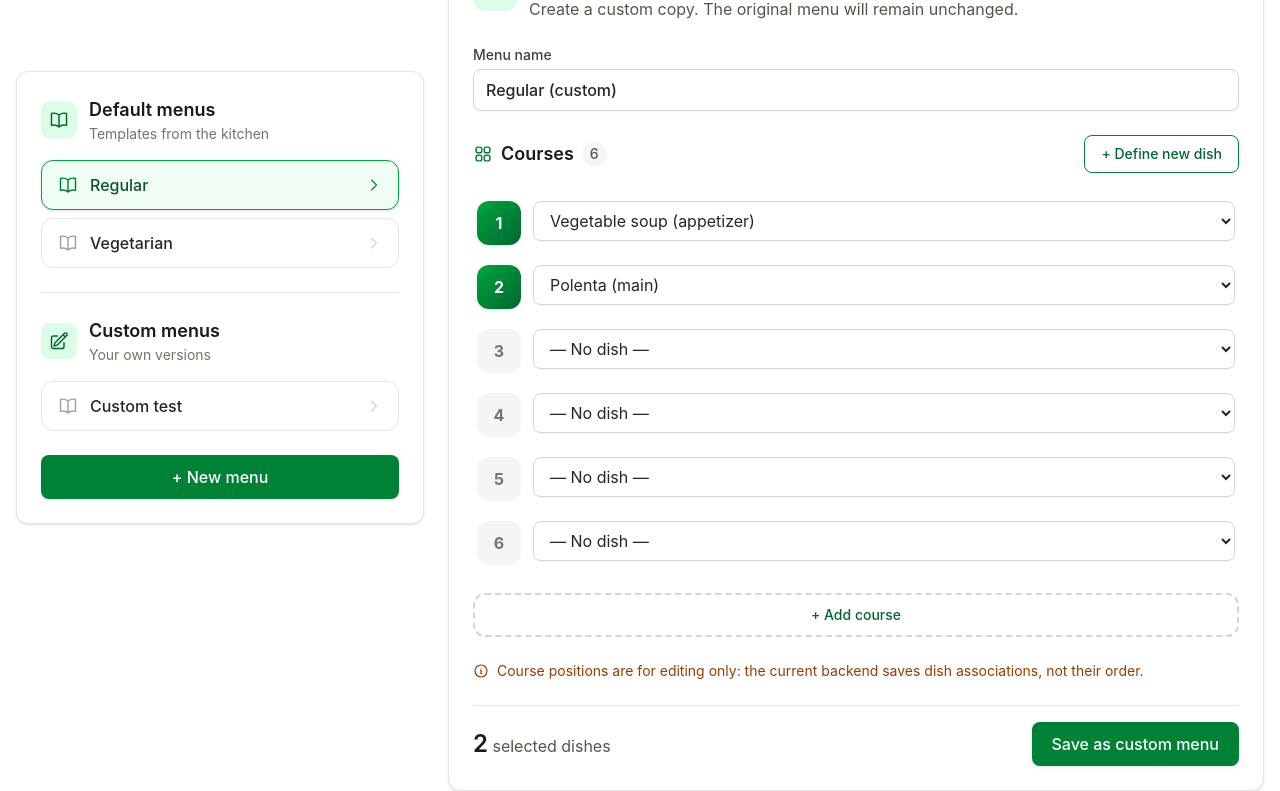
Test case: MH-162 Manage Menus page › shows a backend rejection instead of showing success
The width and height of the screenshot is (1280, 791).
(page scrolled)
Click the button "Save as custom menu": (1135, 744) [1032, 722, 1239, 766]
(page scrolled)
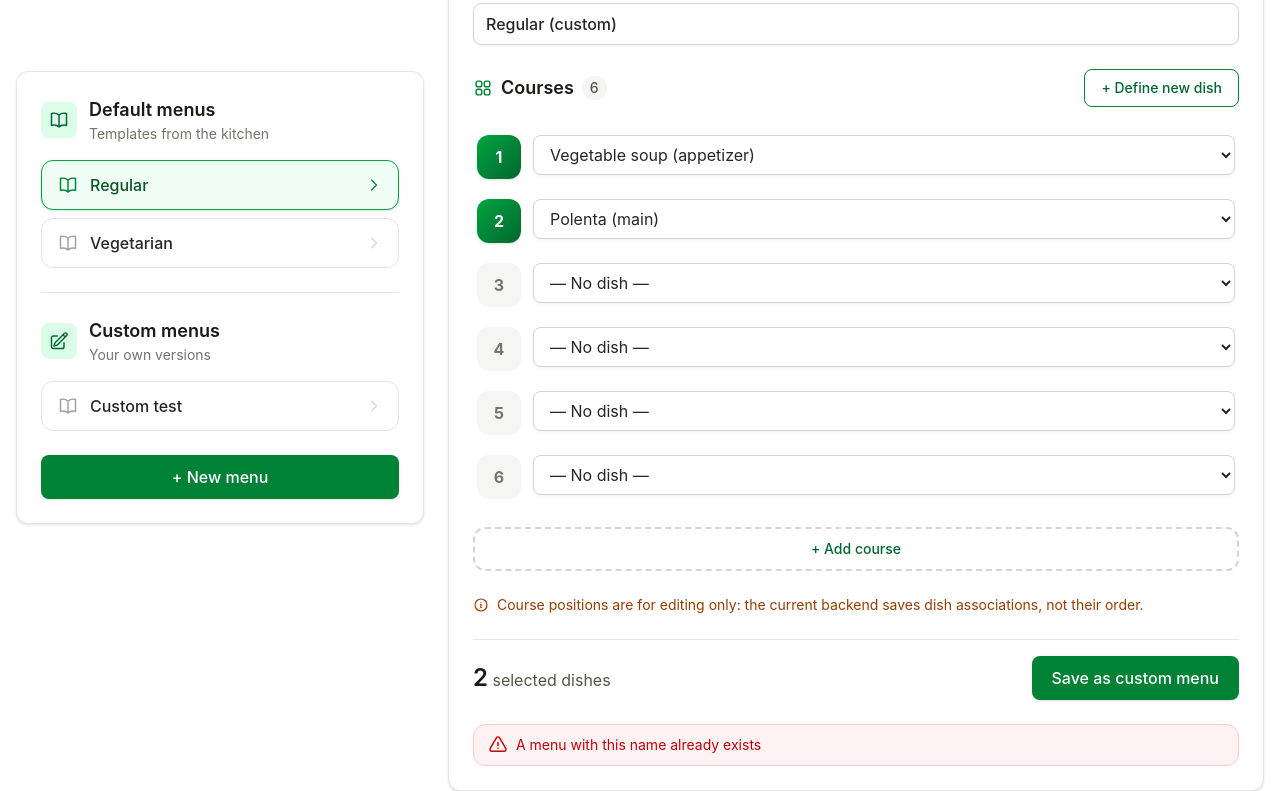
Expected: the message shows "already exists", [516, 736, 761, 753]
